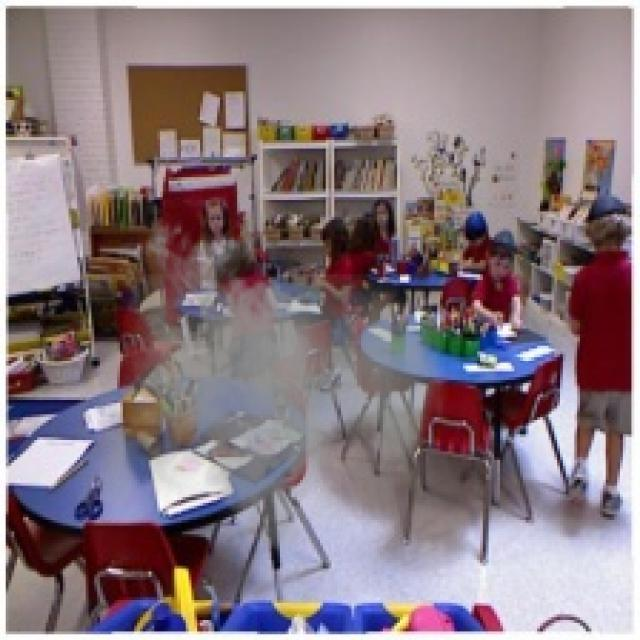Smoke: (97, 211, 449, 566)
